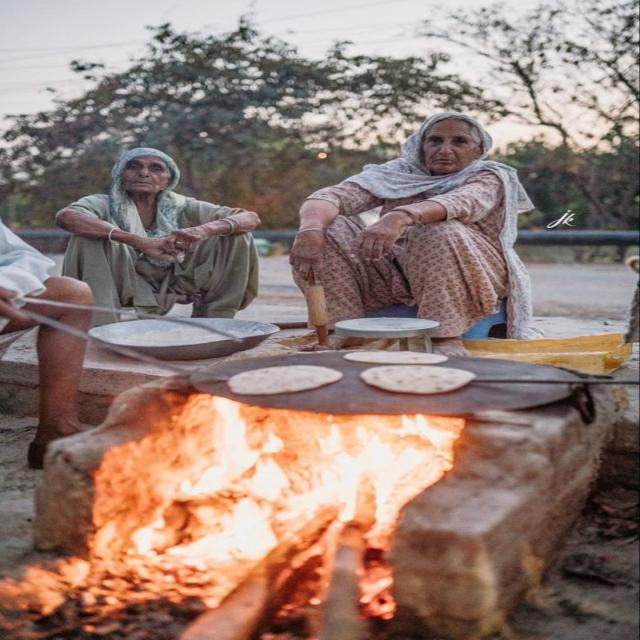fire: (317, 412, 442, 521), (180, 394, 290, 497), (228, 498, 277, 554), (132, 506, 166, 554), (174, 531, 222, 557)
